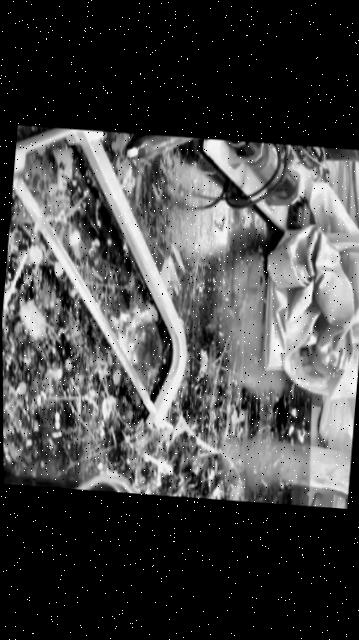pot: (311, 146, 359, 167)
